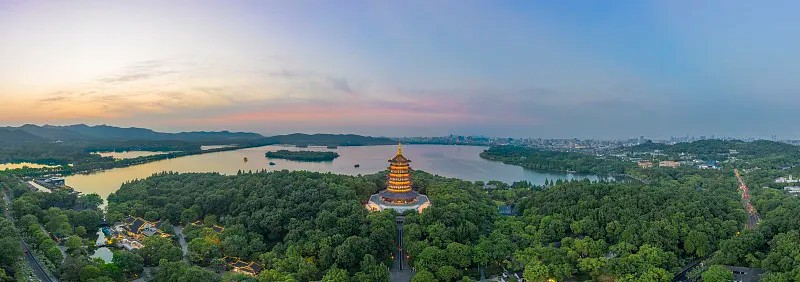Leifeng: (384, 141, 412, 195)
